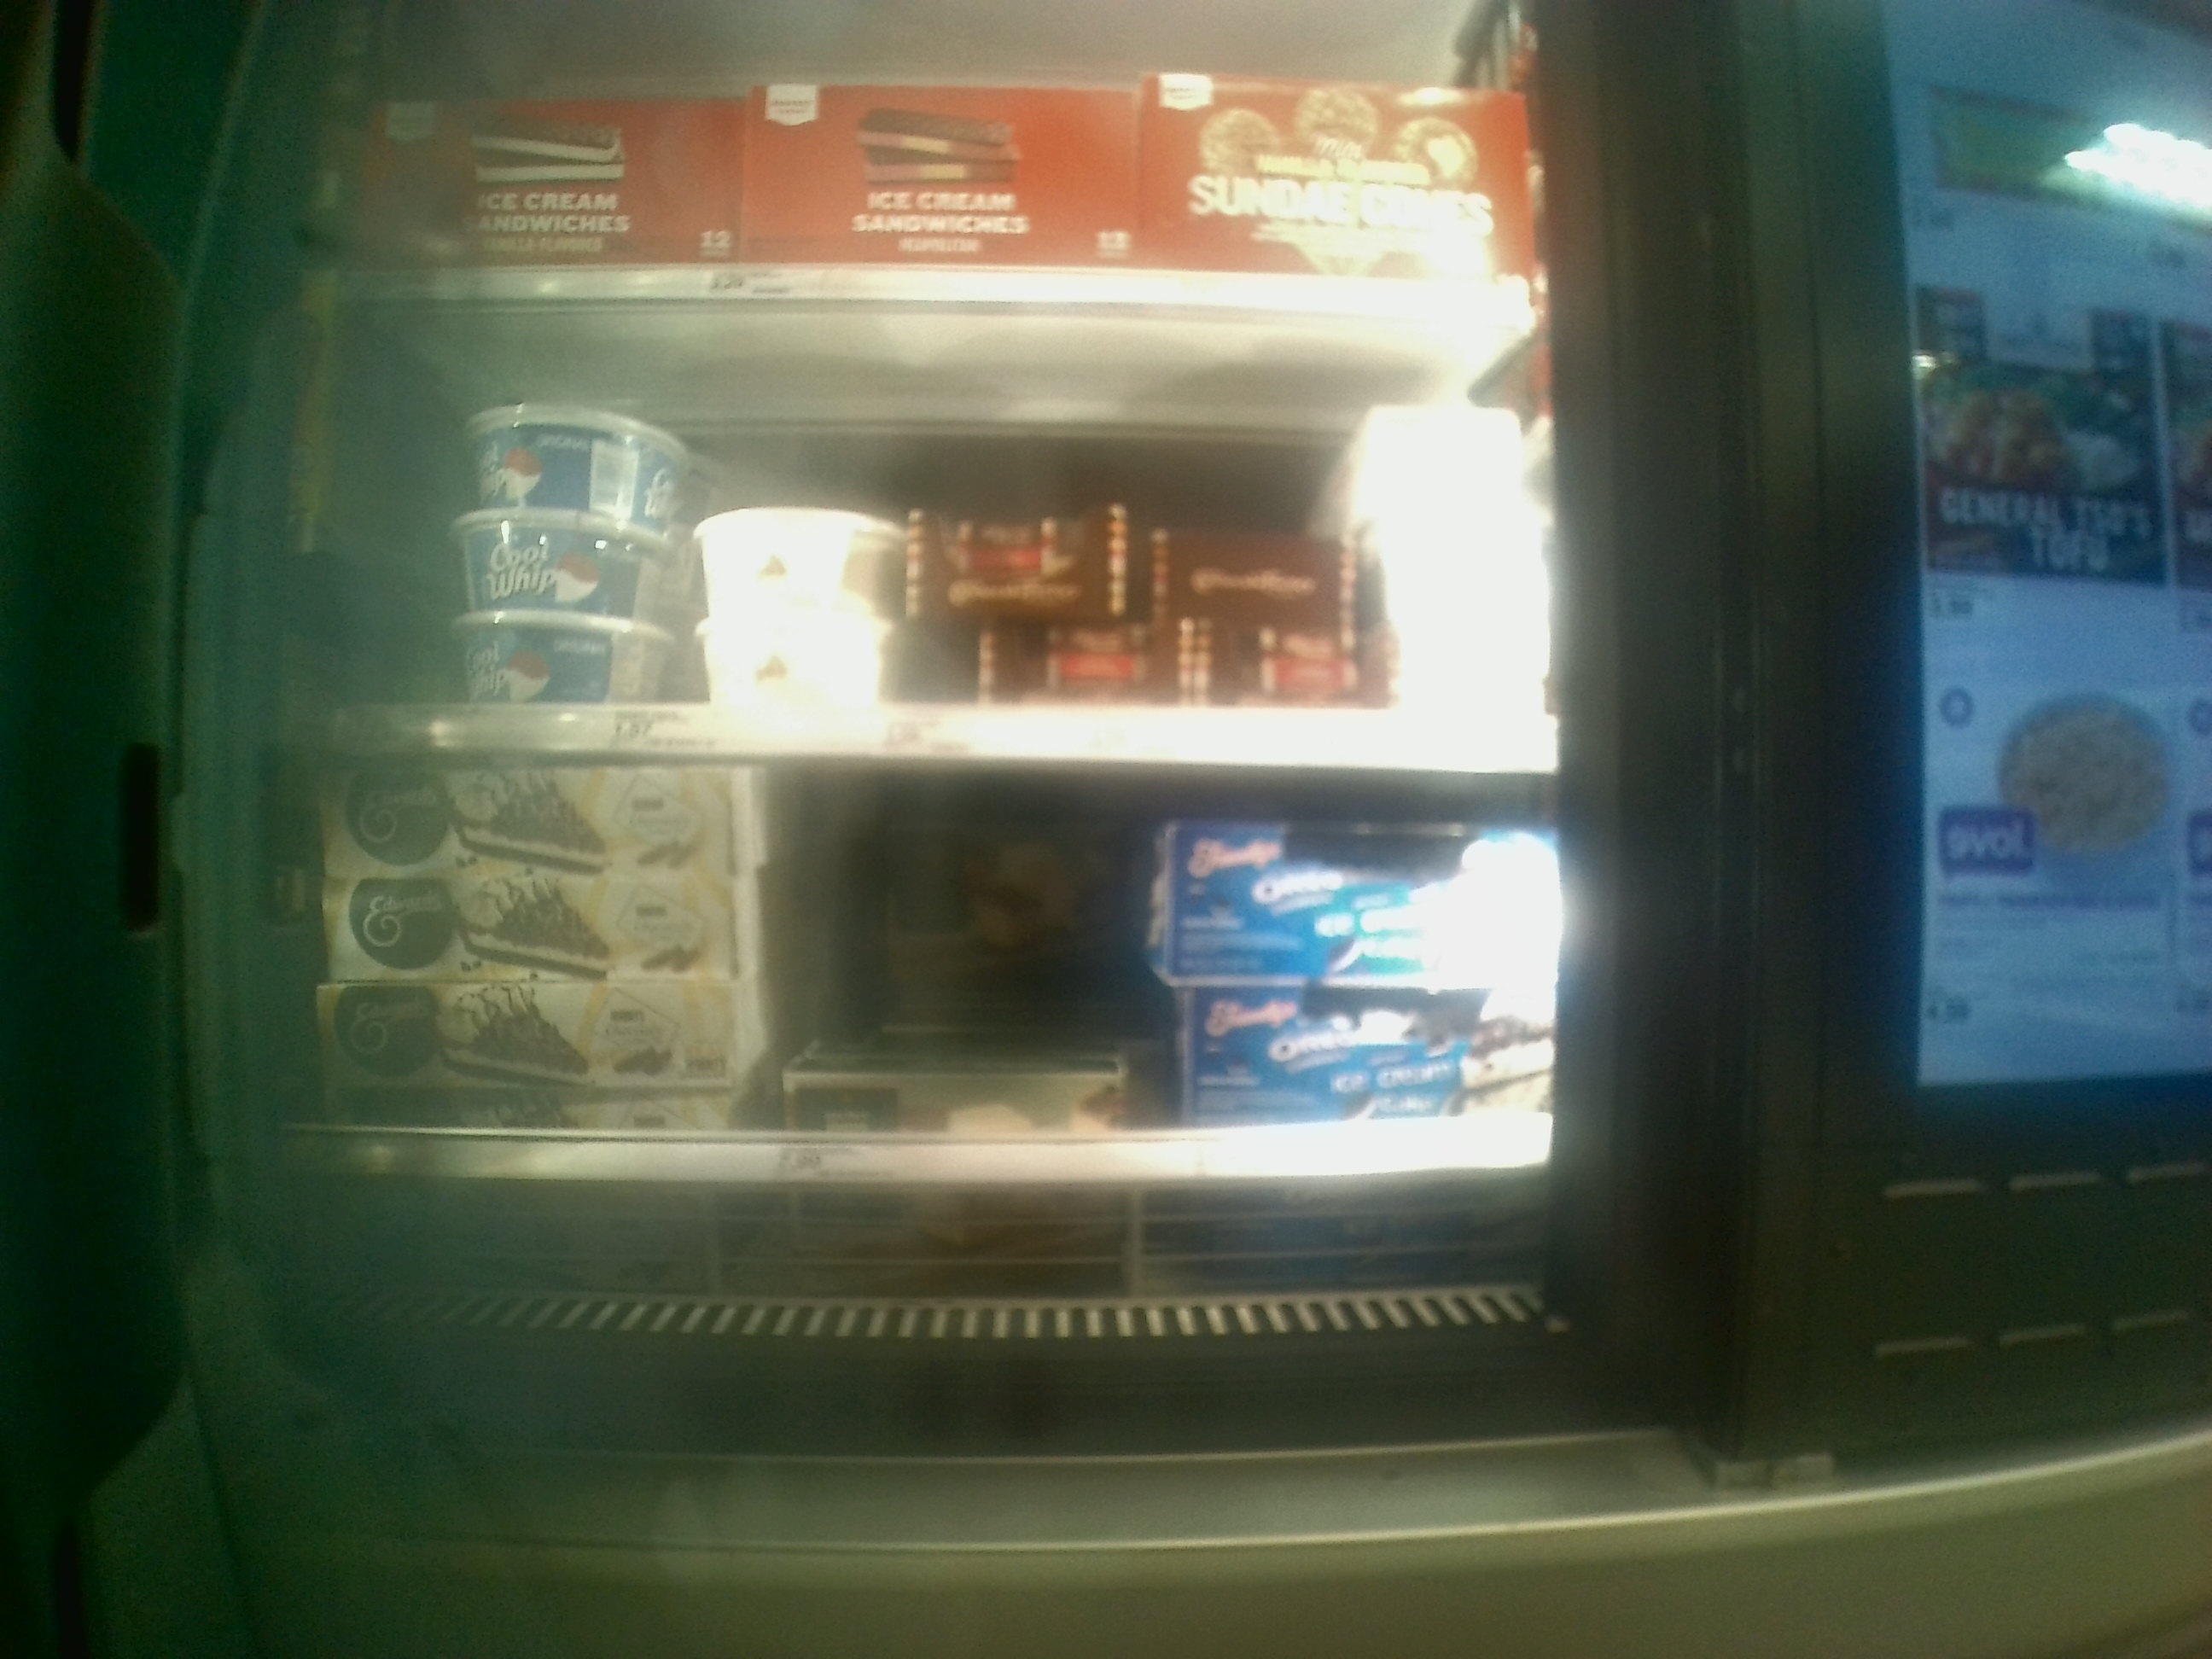frozen-food-shelf: (265, 324, 1571, 779), (256, 774, 1578, 1190)
